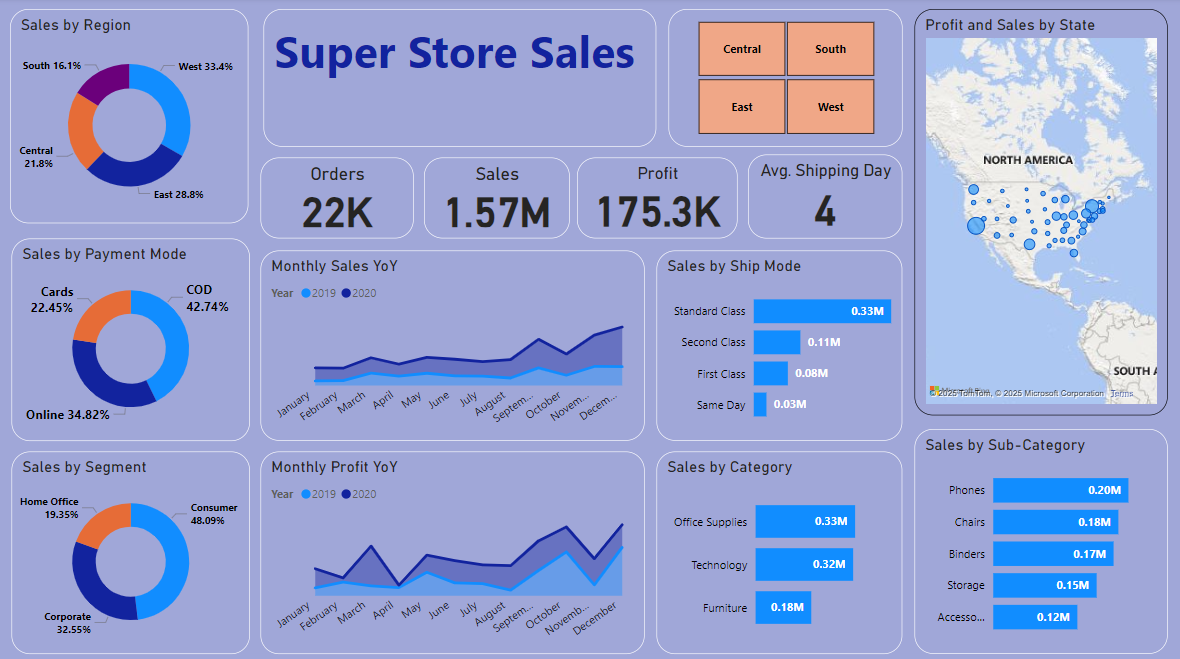

This screenshot's page, from the dashboard's own definition file:
{"tool":"powerbi","page":{"name":"Page 1","canvas":[1280,720],"ordinal":0},"visuals":[{"type":"barChart","title":"Sales by Sub-Category","fields":{"Category":["SuperStore_Sales_Dataset.Sub-Category"],"Y":["Sum(SuperStore_Sales_Dataset.Sales)"]},"box":[992.6,466.3,273.6,242.9],"z":0},{"type":"donutChart","title":"Sales by Payment Mode","fields":{"Category":["SuperStore_Sales_Dataset.Payment Mode"],"Y":["Sum(SuperStore_Sales_Dataset.Sales)"]},"box":[17.8,260.7,257.5,218.6],"z":1000},{"type":"stackedAreaChart","title":"Monthly Sales YoY","fields":{"Category":["SuperStore_Sales_Dataset.Order Date.Variation.Date Hierarchy.Month"],"Y":["Sum(SuperStore_Sales_Dataset.Sales)"],"Series":["SuperStore_Sales_Dataset.Order Date.Variation.Date Hierarchy.Year"]},"box":[286.6,273.6,414.5,205.6],"z":2000},{"type":"stackedAreaChart","title":"Monthly Profit YoY","fields":{"Category":["SuperStore_Sales_Dataset.Order Date.Variation.Date Hierarchy.Month"],"Series":["SuperStore_Sales_Dataset.Order Date.Variation.Date Hierarchy.Year"],"Y":["Sum(SuperStore_Sales_Dataset.Profit)"]},"box":[286.6,490.6,414.5,218.6],"z":3000},{"type":"map","title":"Profit and Sales by State","fields":{"Category":["SuperStore_Sales_Dataset.State"],"Size":["Sum(SuperStore_Sales_Dataset.Sales)"]},"box":[992.6,13,273.6,438.8],"z":4000},{"type":"barChart","title":"Sales by Ship Mode","fields":{"Category":["SuperStore_Sales_Dataset.Ship Mode"],"Y":["Sum(SuperStore_Sales_Dataset.Sales)"]},"box":[714.1,273.6,265.6,205.6],"z":5000},{"type":"donutChart","title":"Sales by Segment","fields":{"Y":["Sum(SuperStore_Sales_Dataset.Sales)"],"Category":["SuperStore_Sales_Dataset.Segment"]},"box":[17.8,490.6,257.5,218.6],"z":6000},{"type":"donutChart","title":"Sales by Region","fields":{"Category":["SuperStore_Sales_Dataset.Region"],"Y":["Sum(SuperStore_Sales_Dataset.Sales)"]},"box":[16.2,13,257.5,231.5],"z":7000},{"type":"barChart","title":"Sales by Category","fields":{"Category":["SuperStore_Sales_Dataset.Category"],"Y":["Sum(SuperStore_Sales_Dataset.Sales)"]},"box":[714.1,490.6,265.6,218.6],"z":8000},{"type":"card","title":"Sales","fields":{"Values":["Sum(SuperStore_Sales_Dataset.Sales)"]},"box":[463.1,173.3,157.1,87.4],"z":9000},{"type":"card","title":"Profit","fields":{"Values":["Sum(SuperStore_Sales_Dataset.Profit)"]},"box":[628.3,173.3,173.3,87.4],"z":10000},{"type":"card","title":"Avg. Shipping Day","fields":{"Values":["Avg(SuperStore_Sales_Dataset.AvgDelivery)"]},"box":[812.9,170,166.8,90.7],"z":11000},{"type":"textbox","box":[289.8,13,424.2,149],"z":12000},{"type":"card","title":"Orders","fields":{"Values":["Sum(SuperStore_Sales_Dataset.Quantity)"]},"box":[286.6,173.3,165.2,87.4],"z":12001},{"type":"slicer","fields":{"Values":["SuperStore_Sales_Dataset.Region"]},"box":[727,13,252.6,149],"z":12002}]}

Visuals, with their boxes in screenshot pixels (x1, y1, x2, y2), scaled from the page's 1280x720 canvas onto the 1180x659 screenshot:
"Sales by Sub-Category" barChart: 915, 427, 1167, 649
"Sales by Payment Mode" donutChart: 16, 239, 254, 439
"Monthly Sales YoY" stackedAreaChart: 264, 250, 646, 439
"Monthly Profit YoY" stackedAreaChart: 264, 449, 646, 649
"Profit and Sales by State" map: 915, 12, 1167, 414
"Sales by Ship Mode" barChart: 658, 250, 903, 439
"Sales by Segment" donutChart: 16, 449, 254, 649
"Sales by Region" donutChart: 15, 12, 252, 224
"Sales by Category" barChart: 658, 449, 903, 649
"Sales" card: 427, 159, 572, 239
"Profit" card: 579, 159, 739, 239
"Avg. Shipping Day" card: 749, 156, 903, 239
textbox: 267, 12, 658, 148
"Orders" card: 264, 159, 417, 239
slicer - SuperStore_Sales_Dataset.Region: 670, 12, 903, 148
